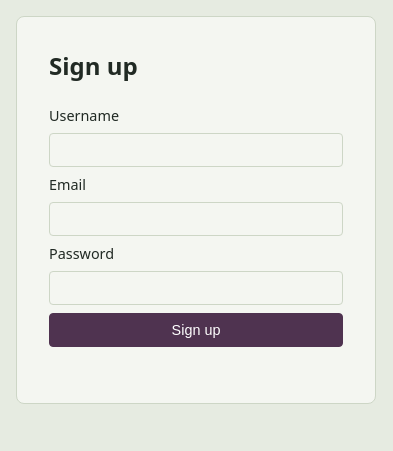
Signup error branches › shows an error (not an unhandled rejection) when fetch rejects with a network error
Type "antonio" into the field labelled "Username".
click(196, 150); type("antonio")  # box [49, 133, 343, 167]
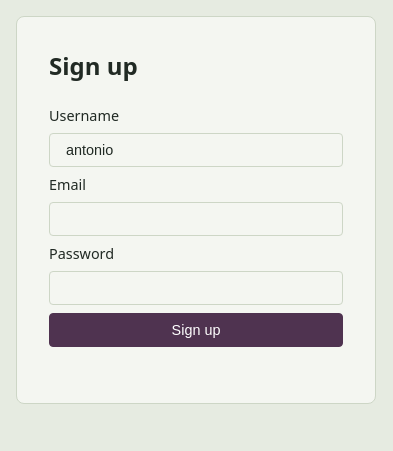
Type "antonio@example.com" into the field labelled "Email".
click(196, 219); type("antonio@example.com")  # box [49, 202, 343, 236]
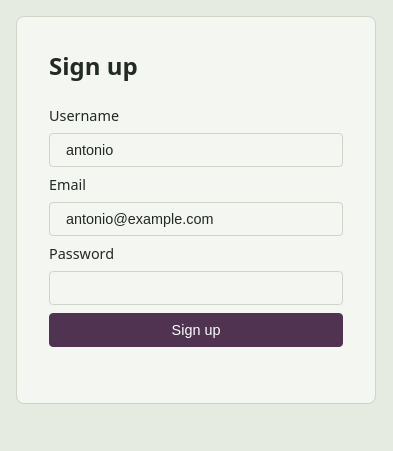
Type "longenoughpassword" into the password field labelled "Password".
click(196, 288); type("longenoughpassword")  # box [49, 271, 343, 305]
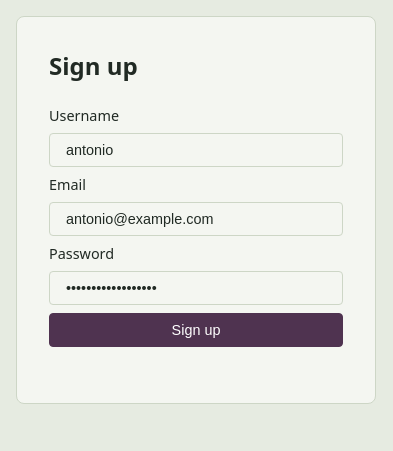
Click the button "Sign up".
click(196, 330)  # box [49, 313, 343, 347]
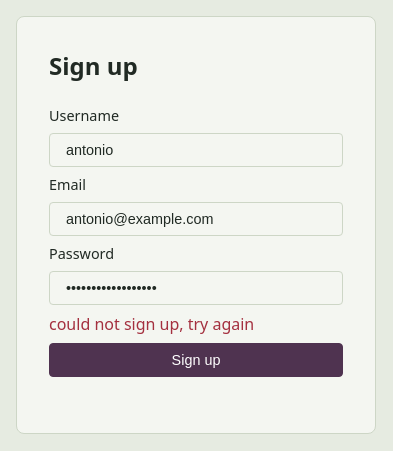
Check: the message shows "could not sign up", box [49, 313, 254, 335]
